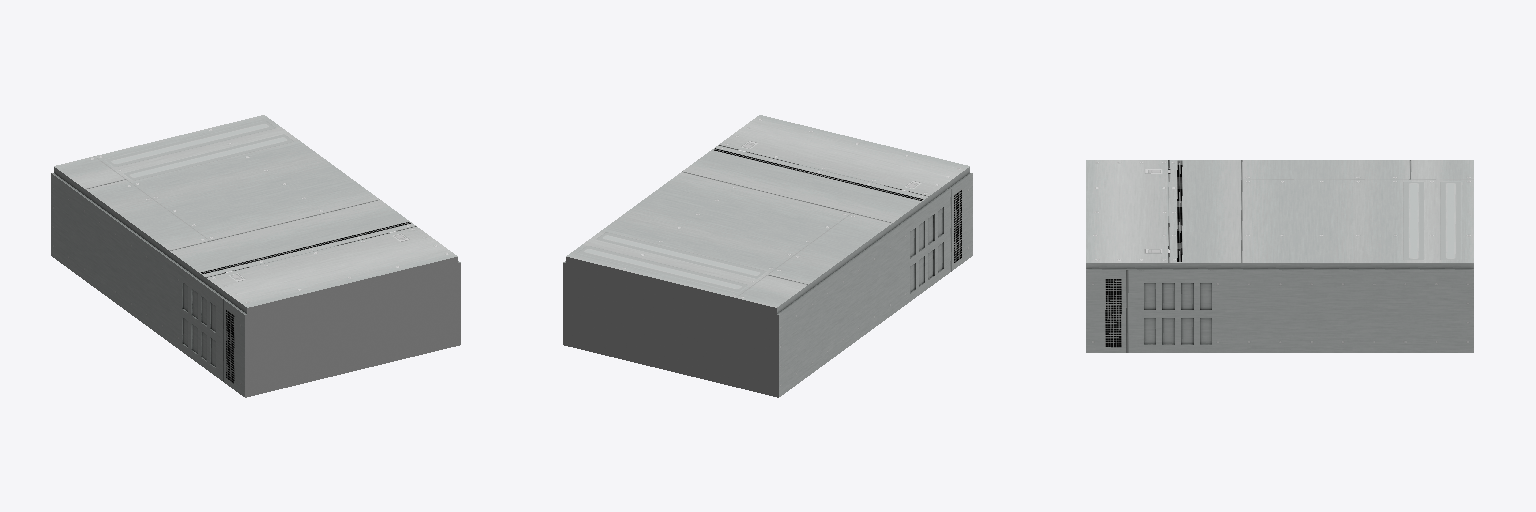
3 views of the same model, side by side, from view 1: azimuth 30°, elevation 25°; view 2: azimuth 150°, elevation 25°; view 3: azimuth 270°, elevation 25° (orthographic).
Parts seen in each view (by area): view 1: Box01; view 2: Box01; view 3: Box01.
Boxes of the visible parts, x1,y1,x2,y2 form: Box01: [51, 115, 460, 397]; Box01: [563, 115, 972, 397]; Box01: [1086, 160, 1473, 352].
Bounding box in the file's own units: 45 × 17.8 × 70.
1 materials, 1 textured.